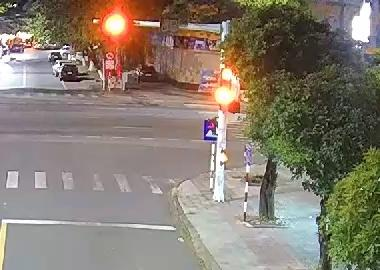stop_line: (2, 218, 176, 230)
yellow_light: (103, 13, 127, 37), (214, 87, 234, 107)
